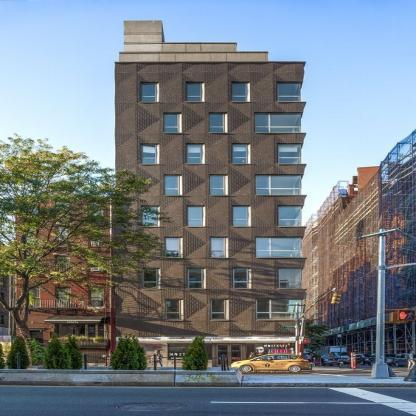Building Outline: (113, 20, 308, 367)
Door: (215, 345, 242, 366)
Facade: (114, 20, 308, 367)
Floor Slab: (115, 325, 305, 328), (115, 232, 305, 235), (115, 263, 305, 266), (115, 294, 305, 297), (115, 200, 304, 203), (115, 139, 303, 141), (115, 170, 303, 172), (115, 108, 302, 110)
Shop: (254, 344, 294, 360), (168, 344, 196, 360)
Window: (256, 299, 302, 319), (255, 238, 301, 257), (255, 176, 301, 195), (255, 114, 301, 132), (279, 207, 302, 226), (278, 145, 301, 164), (279, 269, 302, 288), (278, 84, 301, 102), (212, 299, 227, 319), (210, 176, 225, 195), (165, 176, 180, 195), (166, 300, 181, 319), (233, 207, 248, 226), (142, 145, 157, 164), (187, 145, 202, 164), (232, 145, 247, 164), (142, 207, 157, 226), (187, 207, 202, 226), (165, 238, 180, 257), (210, 238, 225, 257), (233, 269, 248, 288), (142, 269, 157, 288), (189, 269, 204, 288), (232, 84, 247, 102), (141, 84, 156, 102), (187, 84, 202, 102), (210, 114, 225, 132), (165, 114, 180, 132)
